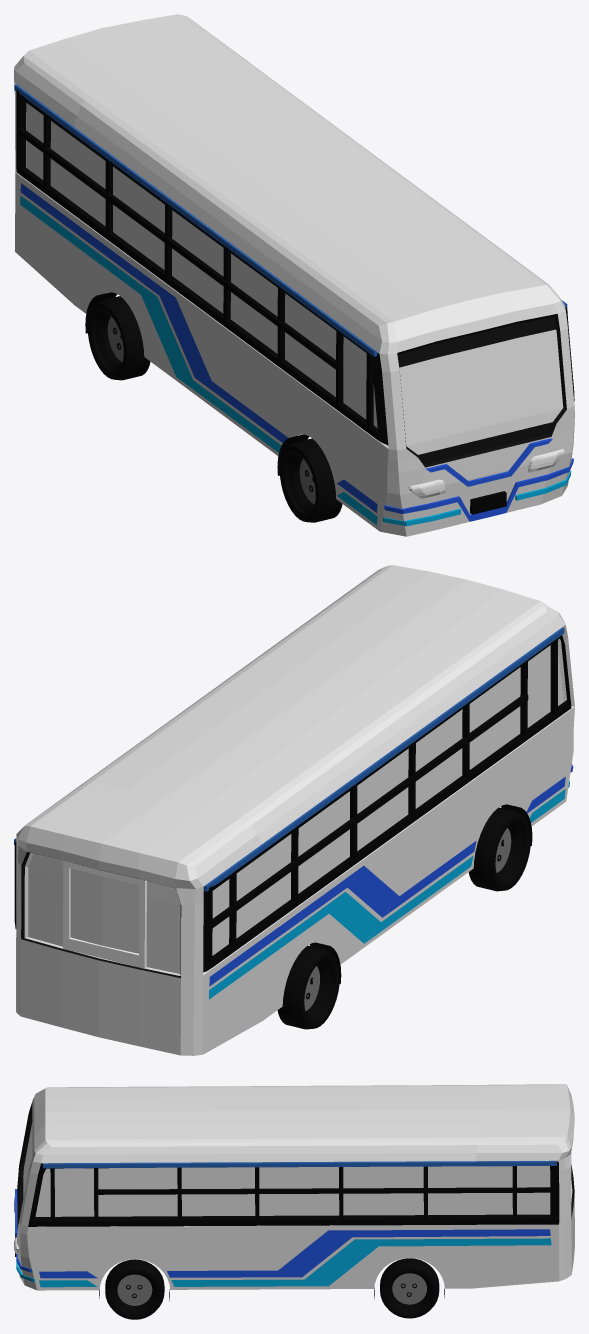
File: bustata.glb
The picture shows the model from 3 angles, top to bottom: view 1: azimuth 30°, elevation 25°; view 2: azimuth 150°, elevation 25°; view 3: azimuth 270°, elevation 25°; orthographic projection. The views are drawn at different scales.
Parts seen in each view (by area): view 1: Cube, Cube.010, Cylinder.008, Cylinder.012, Cube.017, Cube.032, Plane.010, Plane.013, Plane.009, Plane.014, Plane.012, Cube.030 (+2 smaller); view 2: Cube, Cube.010, Cylinder.012, Cylinder.008, Cube.017, Cube.032, Plane.010, Plane.009, Plane.013, Plane.014, Plane.012, Cube.024 (+3 smaller); view 3: Cube, Cube.001, Cube.031, Cylinder, Cylinder.004, Cube.008, Plane.002, Plane.005, Plane.001, Plane.006, Plane.004, Plane (+2 smaller).
Boxes of the visible parts, <box> form: Cube: <box>14,14,574,536</box>; Cube.010: <box>16,90,388,445</box>; Cylinder.008: <box>87,296,150,380</box>; Cylinder.012: <box>279,438,342,522</box>; Cube.017: <box>18,127,337,369</box>; Cube.032: <box>14,84,377,356</box>; Plane.010: <box>20,183,167,296</box>; Plane.013: <box>135,280,192,379</box>; Plane.009: <box>154,282,211,380</box>; Plane.014: <box>20,196,148,295</box>; Plane.012: <box>176,376,281,452</box>; Cube.030: <box>426,438,552,486</box>; Cube: <box>16,565,574,1055</box>; Cube.010: <box>203,635,571,972</box>; Cylinder.012: <box>468,807,530,891</box>; Cylinder.008: <box>277,945,339,1029</box>; Cube.017: <box>212,694,528,927</box>; Cube.032: <box>203,627,564,891</box>; Plane.010: <box>209,877,354,986</box>; Plane.009: <box>342,865,399,917</box>; Plane.013: <box>323,891,380,943</box>; Plane.014: <box>209,903,336,999</box>; Plane.012: <box>364,856,473,943</box>; Cube.024: <box>64,937,143,967</box>; Cube: <box>17,1084,574,1290</box>; Cube.001: <box>28,1162,559,1226</box>; Cube.031: <box>43,1161,556,1168</box>; Cylinder: <box>105,1259,164,1319</box>; Cylinder.004: <box>380,1258,439,1318</box>; Cube.008: <box>98,1187,550,1194</box>; Plane.002: <box>329,1229,550,1237</box>; Plane.005: <box>304,1239,386,1286</box>; Plane.001: <box>278,1230,360,1277</box>; Plane.006: <box>356,1238,551,1246</box>; Plane.004: <box>171,1279,326,1286</box>; Plane: <box>167,1270,299,1277</box>.
Bounding box in the file's own units: 2.3 × 2.48 × 7.22.
